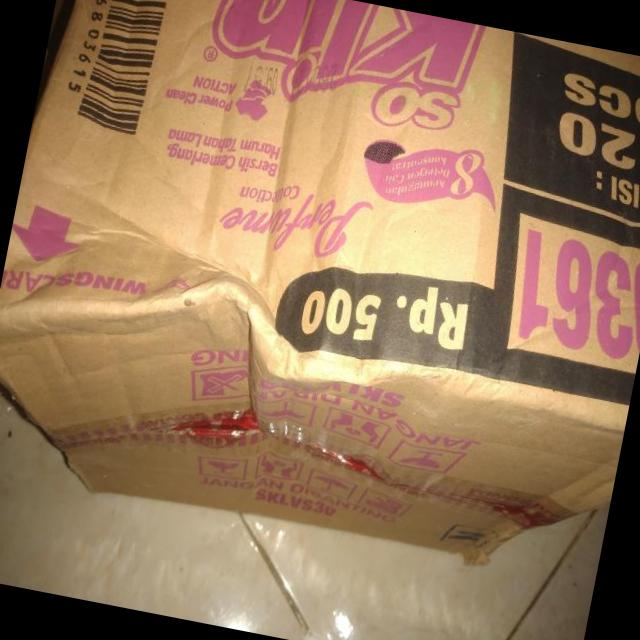box: (1, 1, 640, 568)
crushed: (154, 260, 405, 431)
